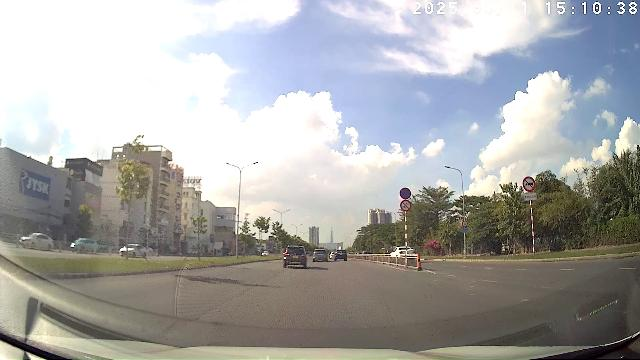130-cam-dung-va-do-xe: (399, 187, 411, 199)
